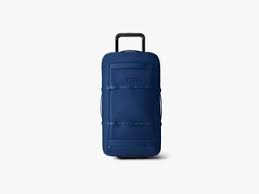suitcase: (98, 31, 163, 162)
